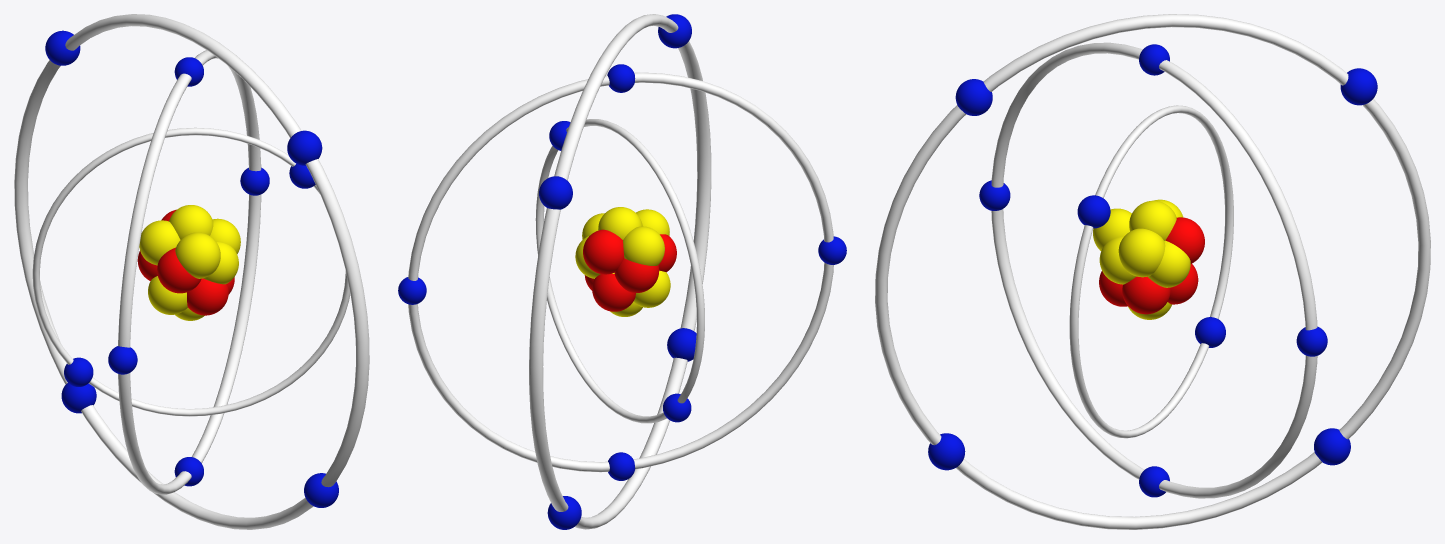
Rendered from Atom.fbx.
3 renders of one model, left to right at view 1: azimuth 30°, elevation 25°; view 2: azimuth 150°, elevation 25°; view 3: azimuth 270°, elevation 25°, orthographic. The views are drawn at different scales.
Visible parts, largest first — view 1: Atom; view 2: Atom; view 3: Atom.
Part boxes in pixels (left/top/right/bottom): Atom: left=14, top=14, right=369, bottom=529; Atom: left=398, top=14, right=846, bottom=529; Atom: left=875, top=14, right=1430, bottom=529.
Size of the model in its own units: 272 by 410 by 403.
